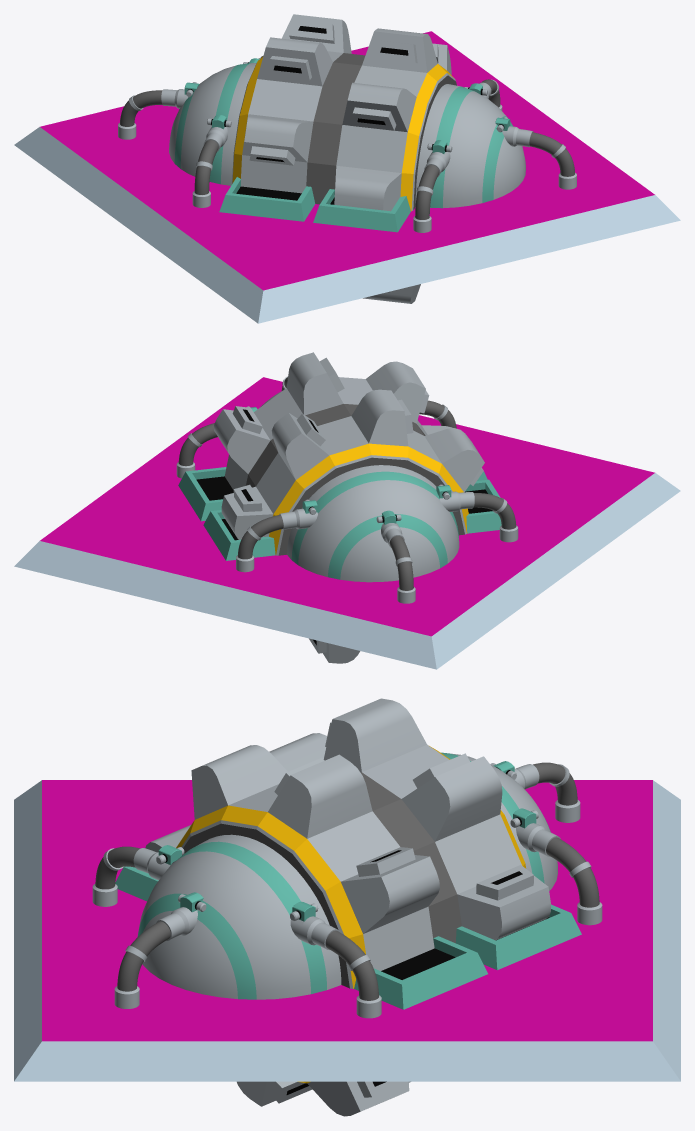
File: 61_Haarvester_FUD6.fbx
3 renders of one model, top to bottom at view 1: azimuth 30°, elevation 25°; view 2: azimuth 150°, elevation 25°; view 3: azimuth 270°, elevation 25°, orthographic. The views are drawn at different scales.
Parts seen in each view (by area): view 1: foundation6, pCylinder114, pSphere41, pSphere54, pPlane31, pPlane32, pCylinder130 (×2), pCylinder252, pCylinder131, pCylinder253; view 2: foundation6, pCylinder114, pSphere54, pCylinder130 (×2), pPlane31, pCylinder131 (×2), pPlane32, pCylinder253; view 3: foundation6, pCylinder114, pSphere41, pCylinder131 (×2), pPlane32, pPlane31, pCylinder130, pCylinder252, pSphere54, pCylinder253.
Part boxes in pixels (x1,y1,x2,y2): foundation6: (14,31,680,323); pCylinder114: (232,14,456,303); pSphere41: (415,84,525,208); pSphere54: (169,63,256,185); pPlane31: (219,177,315,221); pPlane32: (313,189,410,232); pCylinder130 (×2): (192,79,502,207); pCylinder252: (495,117,576,189); pCylinder131: (413,140,450,232); pCylinder253: (118,82,199,139); foundation6: (14,377,680,669); pCylinder114: (214,352,484,663); pSphere54: (287,465,459,582); pCylinder130 (×2): (176,407,518,542); pPlane31: (203,479,501,560); pCylinder131 (×2): (236,400,456,572); pPlane32: (178,467,487,521); pCylinder253: (381,510,415,603); foundation6: (14,780,680,1081); pCylinder114: (145,698,550,1116); pSphere41: (137,834,341,999); pCylinder131 (×2): (92,808,602,925); pPlane32: (115,866,487,1009); pPlane31: (455,904,581,970); pCylinder130: (290,901,381,1018); pCylinder252: (114,892,203,1008); pSphere54: (441,752,557,890); pCylinder253: (493,761,580,822).
Bounding box in the file's own units: 2 × 1.14 × 2.
